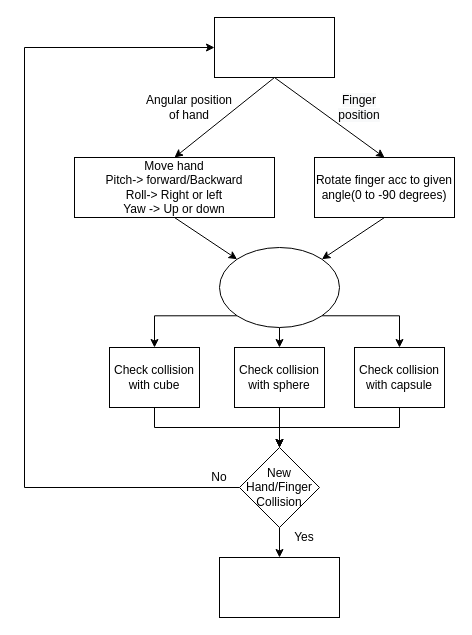
Image size: 472x635. Some labels were removed from this diagram. Each missing label, with the box of its shape:
Blootooth receive Data: (214, 16, 334, 78)
Bluetooth send collision data: (218, 556, 340, 618)
New hand and finger position: (218, 246, 340, 328)
